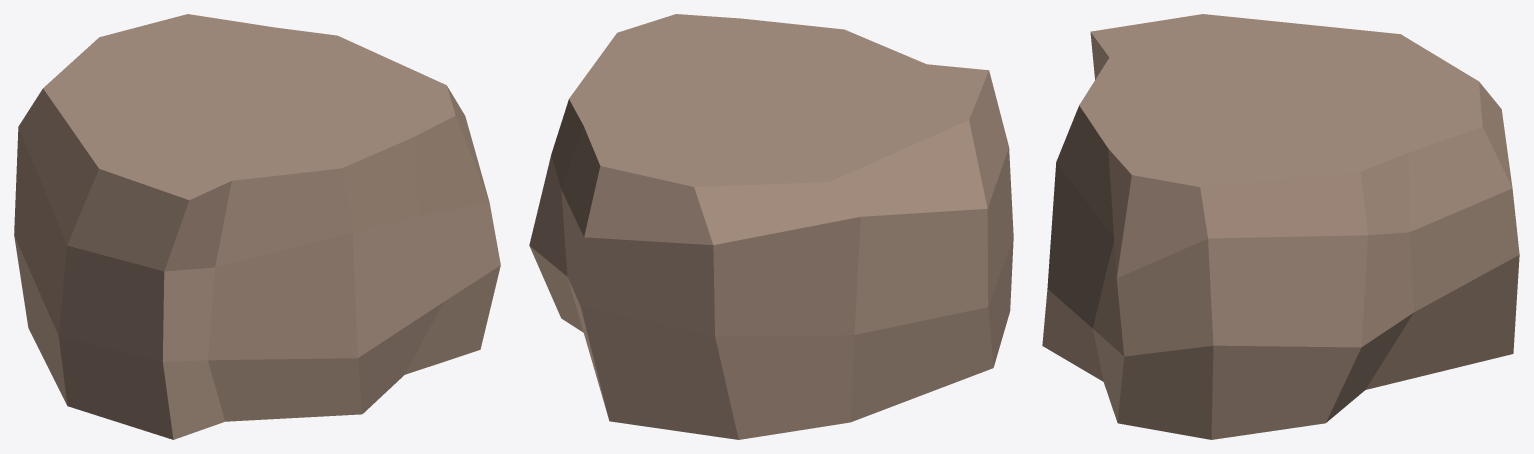
File: Stackable_Rock_2_2_1_Colored.fbx
The picture shows the model from 3 angles, left to right: view 1: azimuth 30°, elevation 25°; view 2: azimuth 150°, elevation 25°; view 3: azimuth 270°, elevation 25°; orthographic projection. The views are drawn at different scales.
Parts seen in each view (by area): view 1: Stackable_Rock_2_2_1; view 2: Stackable_Rock_2_2_1; view 3: Stackable_Rock_2_2_1.
Part boxes in pixels (box(x1,y1,x2,y2)): Stackable_Rock_2_2_1: box(14, 14, 500, 439); Stackable_Rock_2_2_1: box(529, 14, 1013, 439); Stackable_Rock_2_2_1: box(1042, 14, 1519, 439).
Size of the model in its own units: 183 by 100 by 181.
